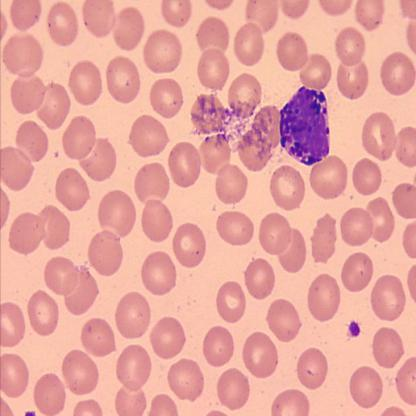Basophil: (280, 87, 330, 167)
